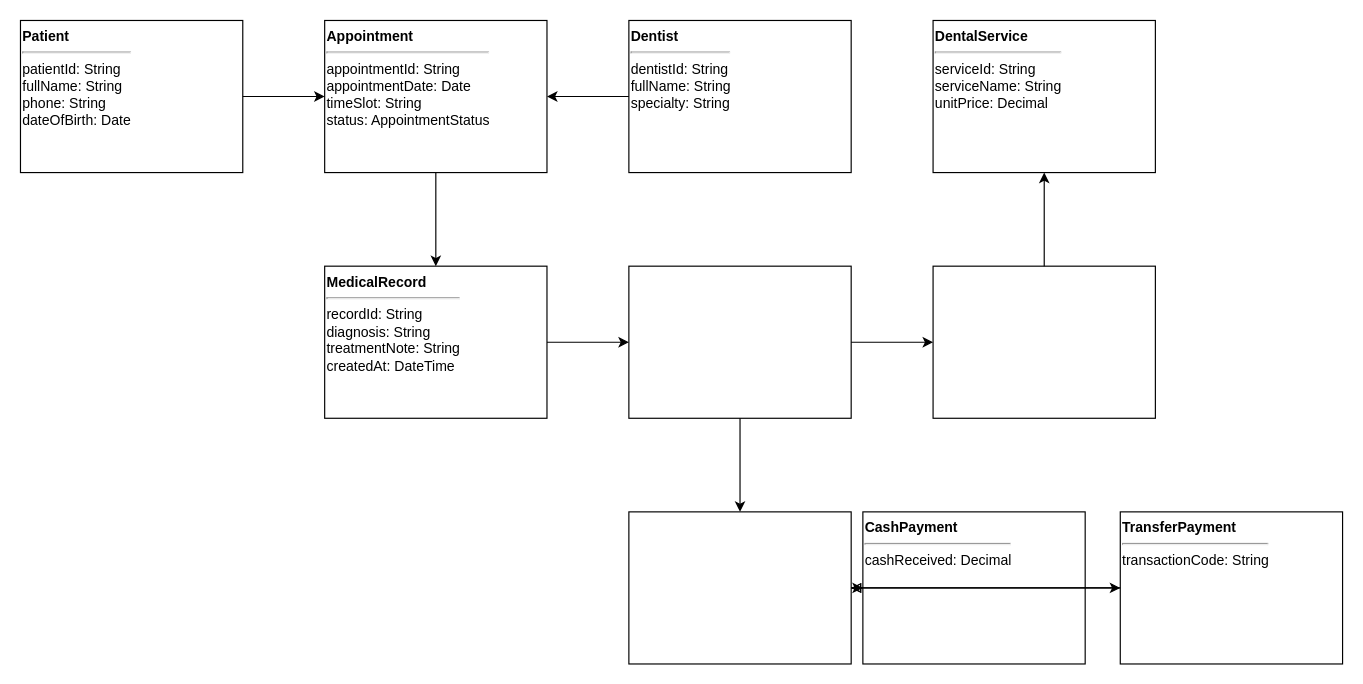
This 1363x684 diagram has some shape labels left out. The shapes that lost their labels are listed below. From the top down, each one's centre as x and y in pixels, then its label:
At point (739, 341): "Invoice invoiceId: String issueDate: DateTime totalAmount: Decimal".
At point (1043, 341): "InvoiceDetail quantity: int unitPrice: Decimal lineTotal: Decimal".
At point (739, 587): "PaymentMethod paymentId: String paidAt: DateTime +pay(amount)".
